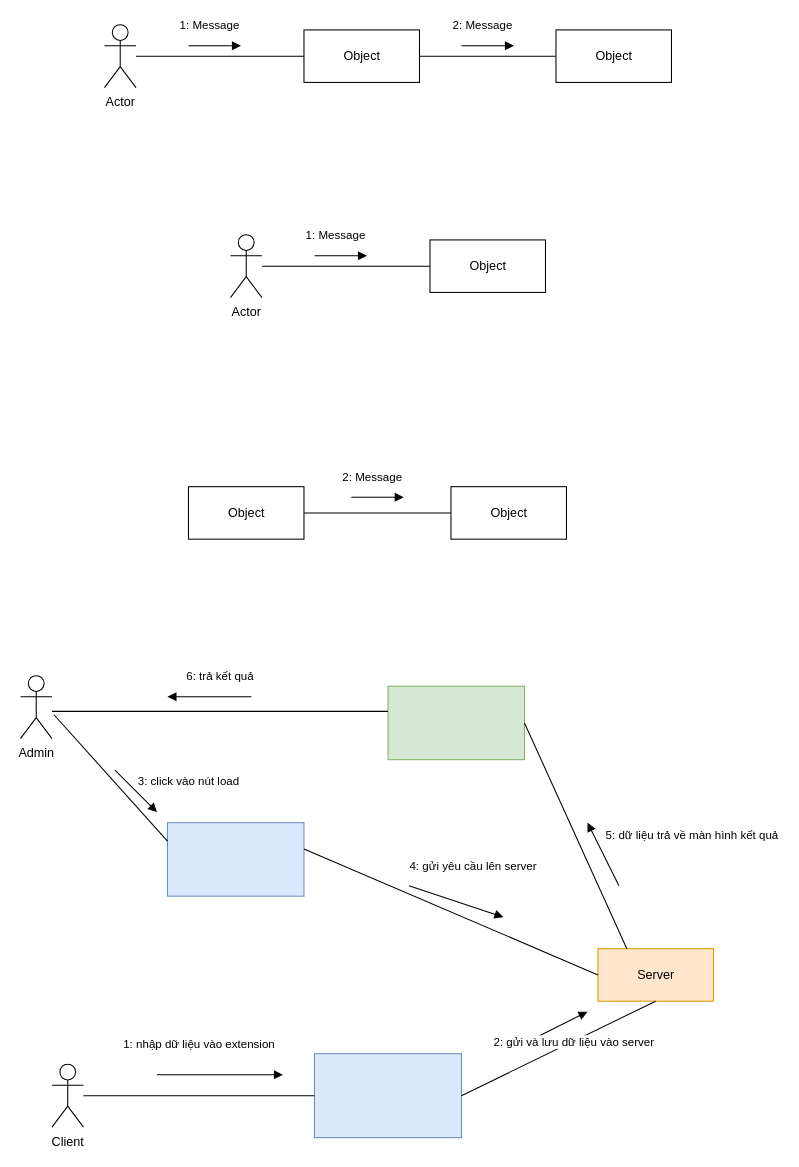
Some shapes in this 799 by 1167 pixel diagram are drawn without their labels. Here are the shapes that lost their labels. From the top down, the centre of each, then its label:
the point at 455,722: Màn hình chính chứa kết quả
the point at 235,859: Màn hình chính chứa Extension CheckAuto
the point at 387,1095: Màn hình chính chứa Extension AutoCheck
